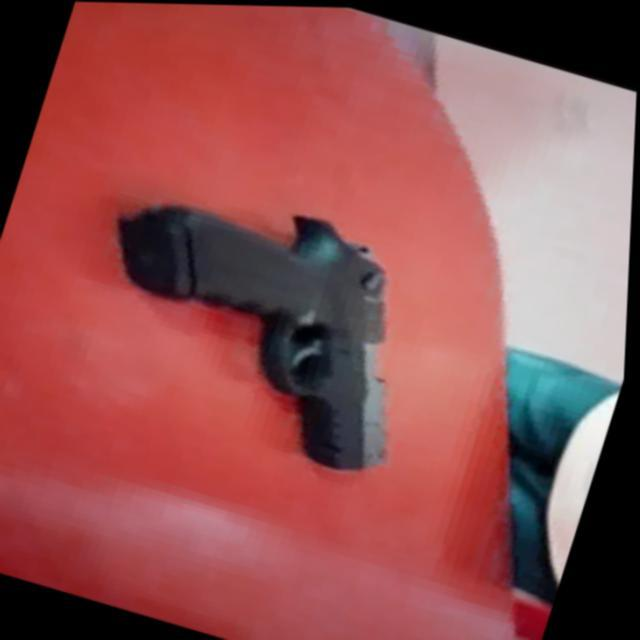weapon: (62, 161, 455, 482)
